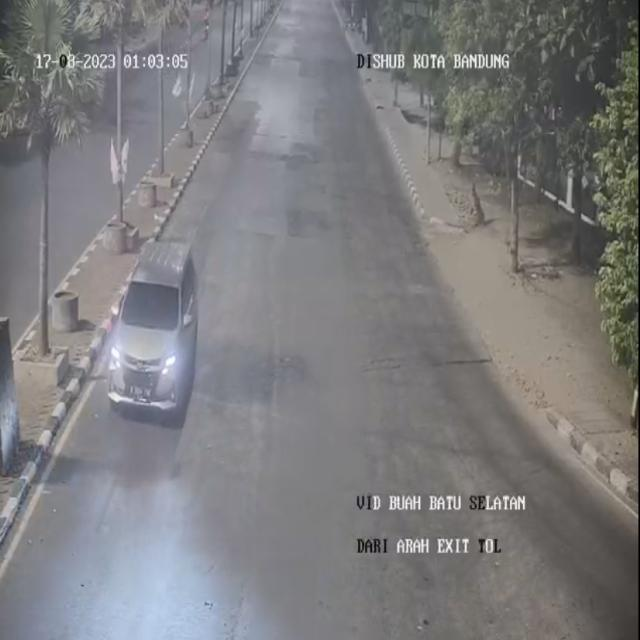cars: (108, 235, 202, 411)
